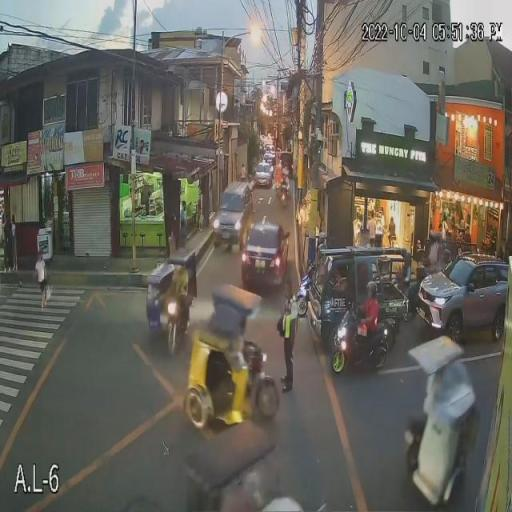helmet: (367, 282, 378, 299), (318, 244, 328, 250), (247, 174, 252, 182), (283, 176, 286, 181)
motorcycle: (332, 314, 396, 371), (296, 273, 308, 316), (249, 192, 257, 212), (280, 191, 288, 206)
rider: (353, 300, 379, 366), (247, 182, 255, 200), (281, 182, 287, 193)
